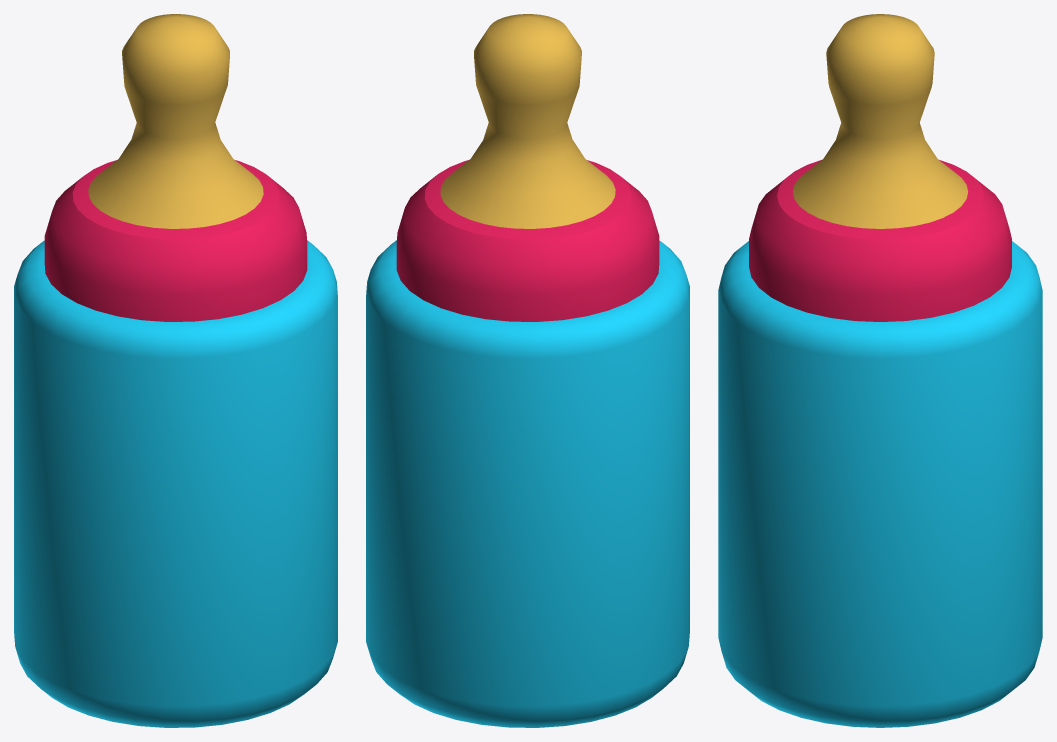
Rendered from BabyBottle.fbx.
The picture shows the model from 3 angles, left to right: view 1: azimuth 30°, elevation 25°; view 2: azimuth 150°, elevation 25°; view 3: azimuth 270°, elevation 25°; orthographic projection.
Parts seen in each view (by area): view 1: Cylinder.003, Cylinder.004, Cylinder.005; view 2: Cylinder.003, Cylinder.004, Cylinder.005; view 3: Cylinder.003, Cylinder.004, Cylinder.005.
Boxes of the visible parts, box(x1,y1,x2,y2) form: Cylinder.003: box(14, 240, 337, 727); Cylinder.004: box(44, 160, 307, 321); Cylinder.005: box(88, 14, 263, 228); Cylinder.003: box(366, 240, 689, 727); Cylinder.004: box(396, 160, 659, 321); Cylinder.005: box(440, 14, 615, 228); Cylinder.003: box(718, 241, 1042, 727); Cylinder.004: box(749, 160, 1011, 321); Cylinder.005: box(792, 14, 968, 228).
Bounding box in the file's own units: 200 × 442 × 200.
